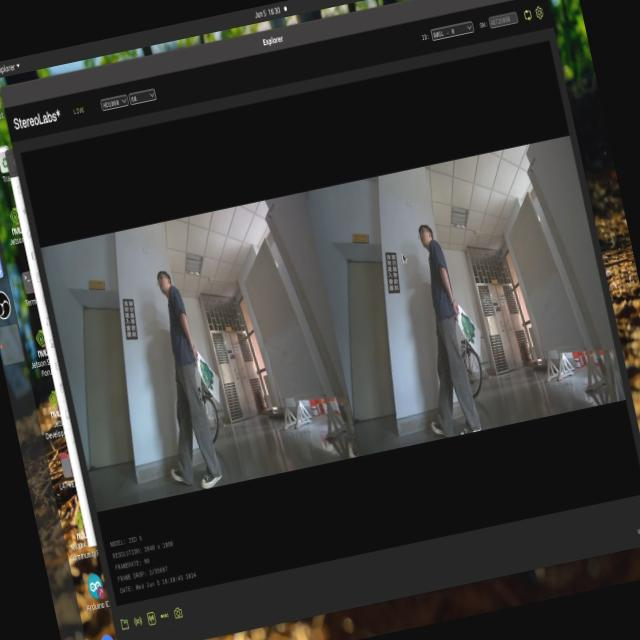green: (194, 352, 223, 405), (456, 310, 479, 355)
